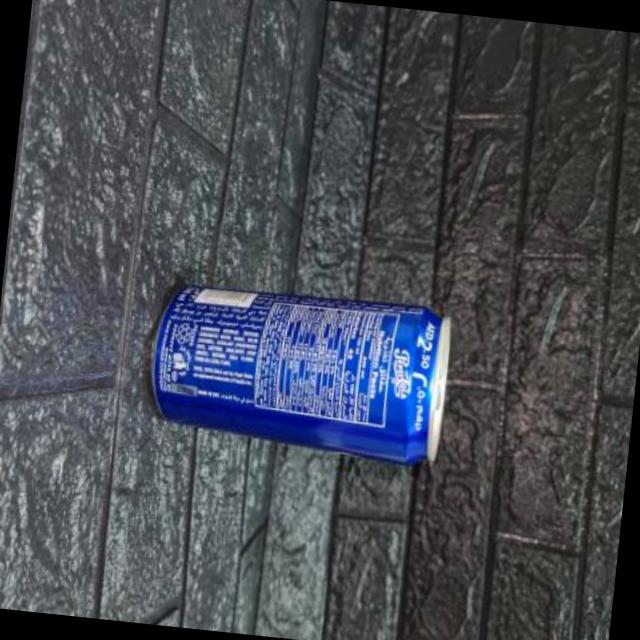metal: (155, 284, 452, 459)
